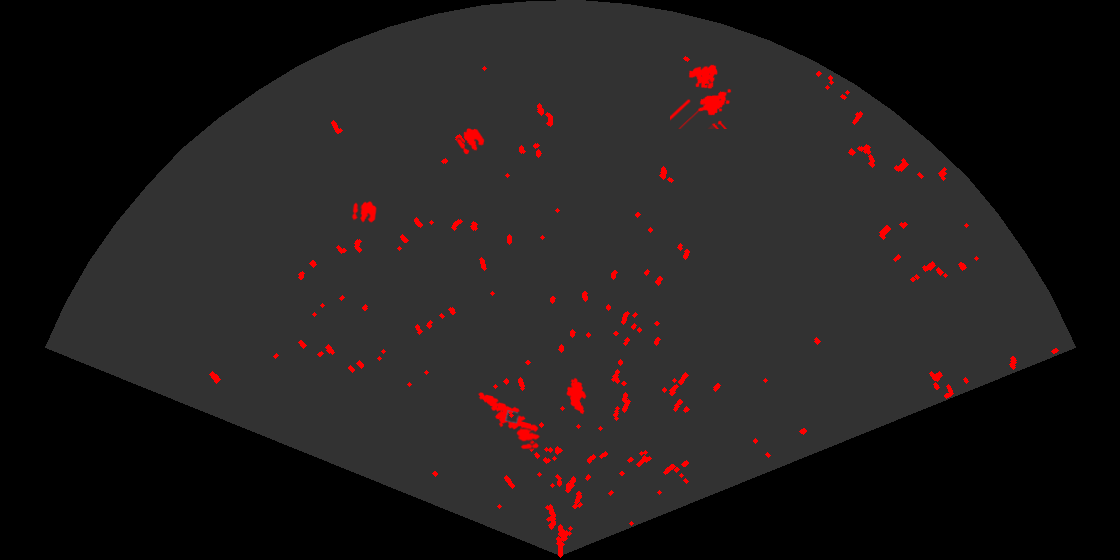AUV: (565, 376, 588, 416)
ball: (455, 127, 486, 156), (515, 423, 542, 451), (350, 200, 378, 224)
cage: (670, 63, 733, 129)
frogman: (476, 391, 531, 431)
